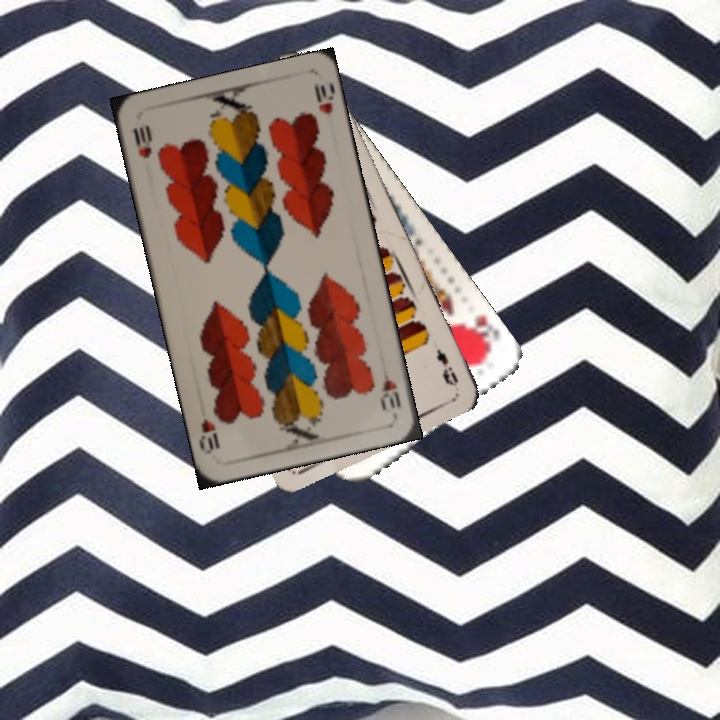E9: (432, 344, 461, 390)
H10: (376, 359, 404, 413), (129, 121, 155, 161)
HK: (460, 309, 503, 357)
